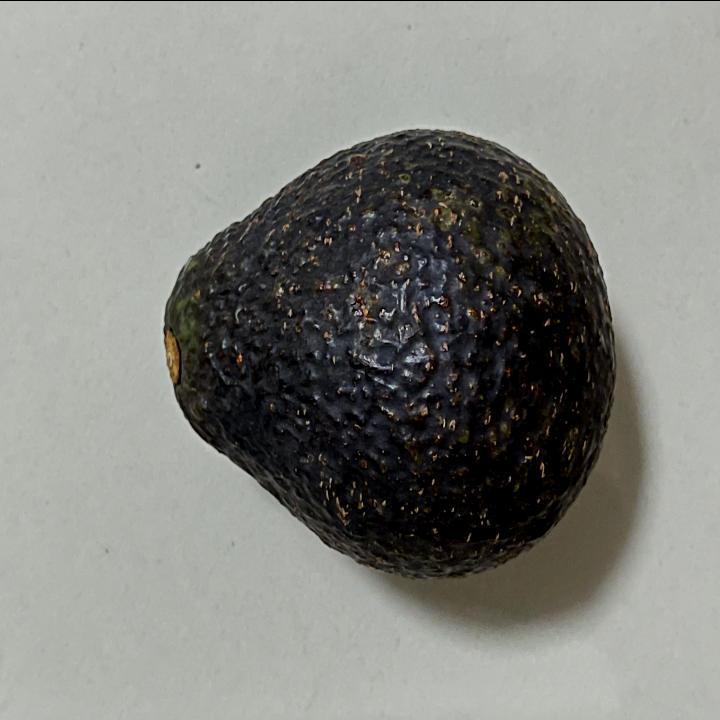Level1: (150, 113, 622, 589)
